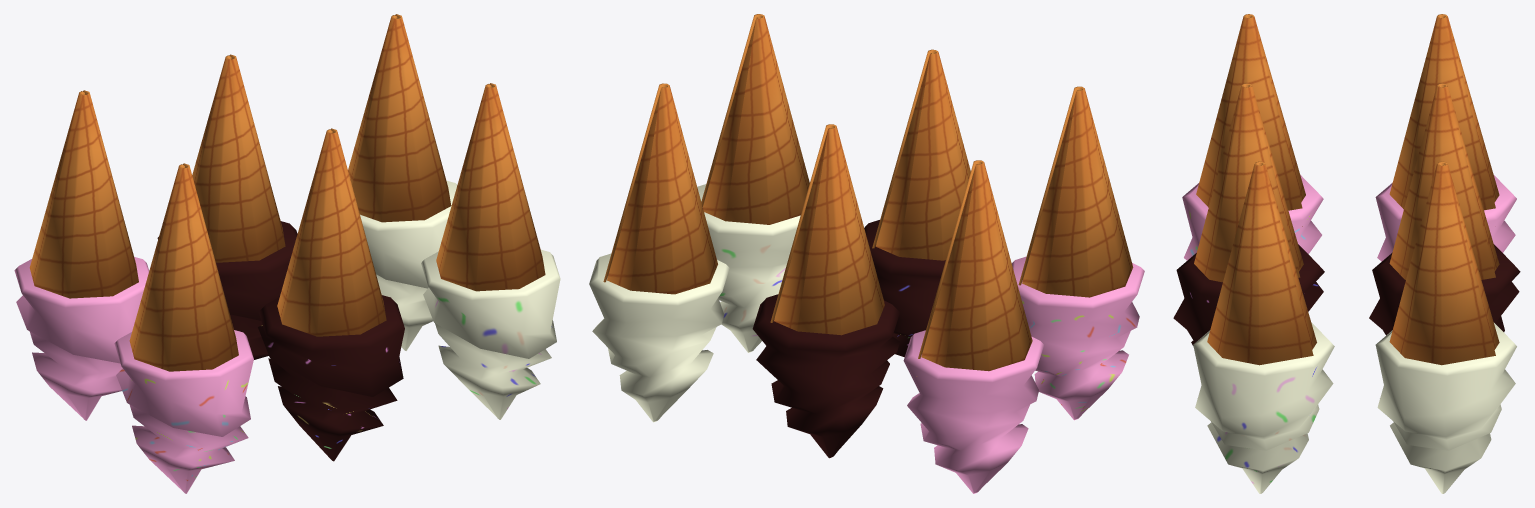
The model's file is ayksrim.fbx.
The picture shows the model from 3 angles, left to right: view 1: azimuth 30°, elevation 25°; view 2: azimuth 150°, elevation 25°; view 3: azimuth 270°, elevation 25°; orthographic projection. The views are drawn at different scales.
Visible parts, largest first — view 1: Chocolate_2_4, White_2_1, Pink_2_5, Pink_1_3, White_1_0, Chocolate_1_2; view 2: Chocolate_1_2, White_1_0, Pink_1_3, Pink_2_5, White_2_1, Chocolate_2_4; view 3: White_2_1, White_1_0, Chocolate_2_4, Chocolate_1_2, Pink_1_3, Pink_2_5.
Boxes of the visible parts, left/top/right/bottom form: Chocolate_2_4: left=258, top=128, right=404, bottom=461; White_2_1: left=421, top=83, right=560, bottom=419; Pink_2_5: left=114, top=163, right=253, bottom=493; Pink_1_3: left=14, top=90, right=149, bottom=420; White_1_0: left=348, top=14, right=457, bottom=350; Chocolate_1_2: left=157, top=54, right=297, bottom=359; Chocolate_1_2: left=752, top=124, right=899, bottom=458; White_1_0: left=589, top=83, right=729, bottom=422; Pink_1_3: left=903, top=160, right=1043, bottom=493; Pink_2_5: left=1011, top=86, right=1144, bottom=420; White_2_1: left=697, top=14, right=809, bottom=352; Chocolate_2_4: left=864, top=49, right=970, bottom=357; White_2_1: left=1193, top=161, right=1334, bottom=493; White_1_0: left=1375, top=161, right=1516, bottom=493; Chocolate_2_4: left=1173, top=83, right=1324, bottom=345; Chocolate_1_2: left=1369, top=83, right=1520, bottom=335; Pink_1_3: left=1375, top=14, right=1516, bottom=261; Pink_2_5: left=1182, top=14, right=1323, bottom=260.
Bounding box in the file's own units: 0.0575 × 0.0423 × 0.0409.
Materials: 7 (7 with a texture image).
